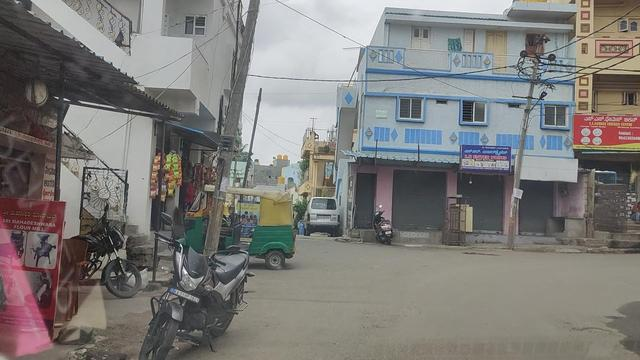RoadDamages: (283, 288, 366, 312), (562, 315, 615, 344)
